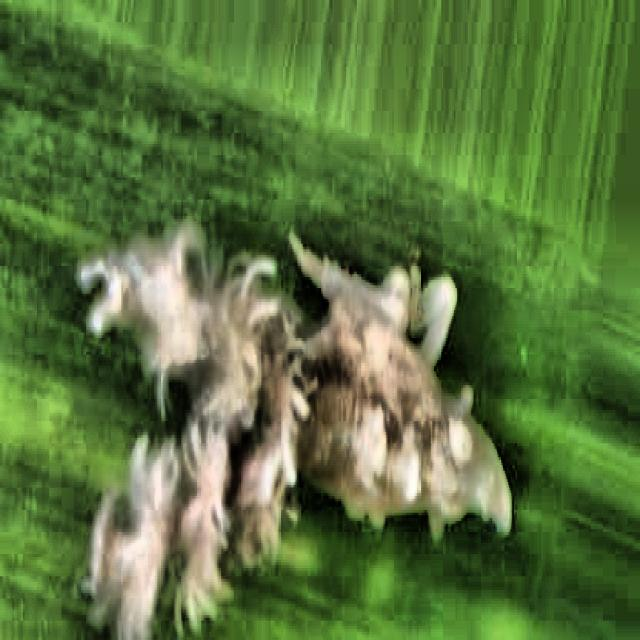Pyrilla-perpusilla: (58, 113, 532, 636)
